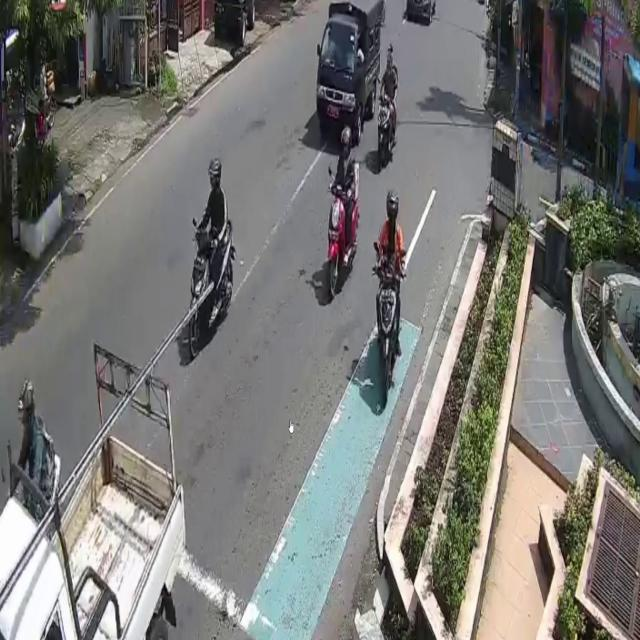car: (0, 343, 187, 640), (314, 0, 382, 143)
motorbike: (189, 214, 235, 356), (326, 185, 359, 293), (375, 264, 400, 402), (372, 92, 400, 166)
